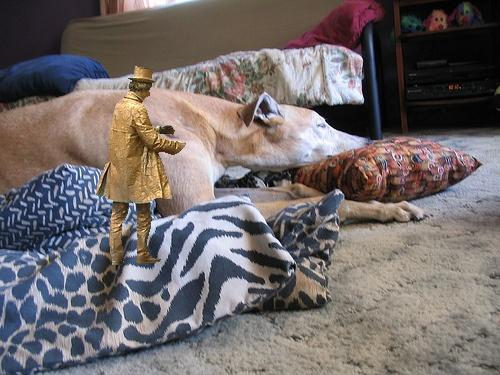tampered: (96, 67, 186, 265)
